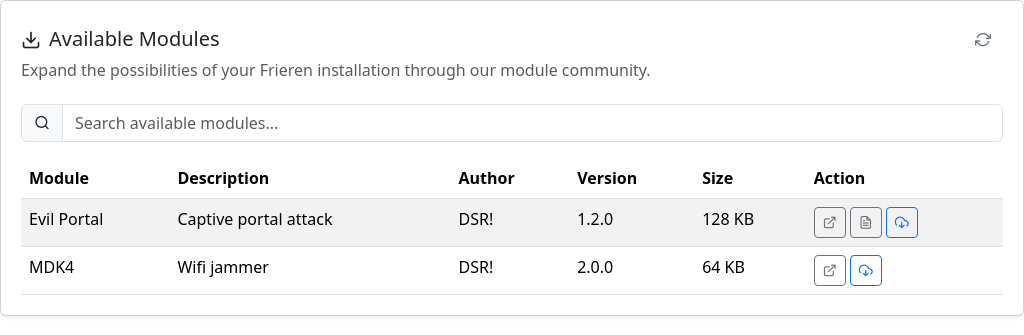
Scenario: AvailableModulesCard › shows a "No modules found" row when the filter matches nothing
The width and height of the screenshot is (1024, 335).
In the field with placeholder "Search available modules...": (532, 123) [62,104,1003,142], type "zzz-no-match"
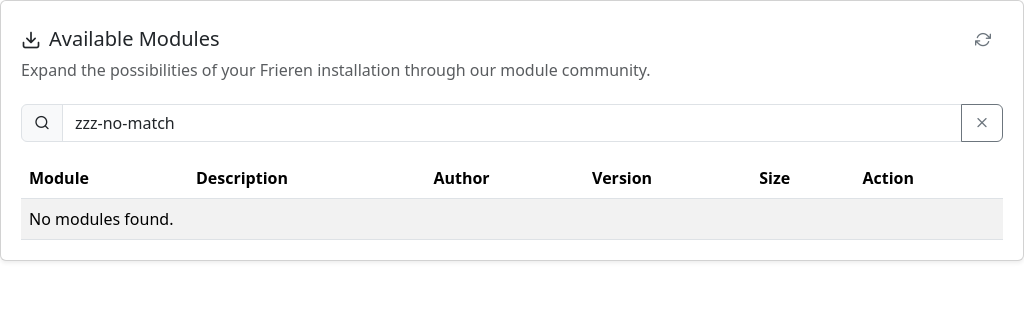
Result: the text "No modules found." is shown at [21,199,1003,240]
Result: the text "Evil Portal" is gone
Result: the text "MDK4" is gone
